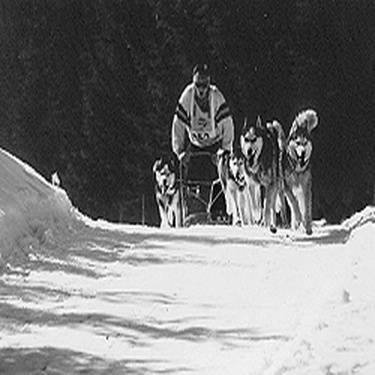dog: (274, 103, 321, 238), (240, 113, 287, 237), (214, 140, 251, 230), (149, 151, 188, 229)
